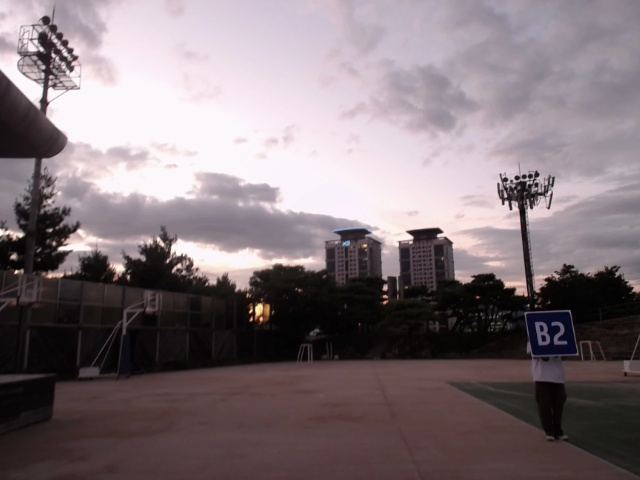delivery_b2: (523, 308, 579, 359)
